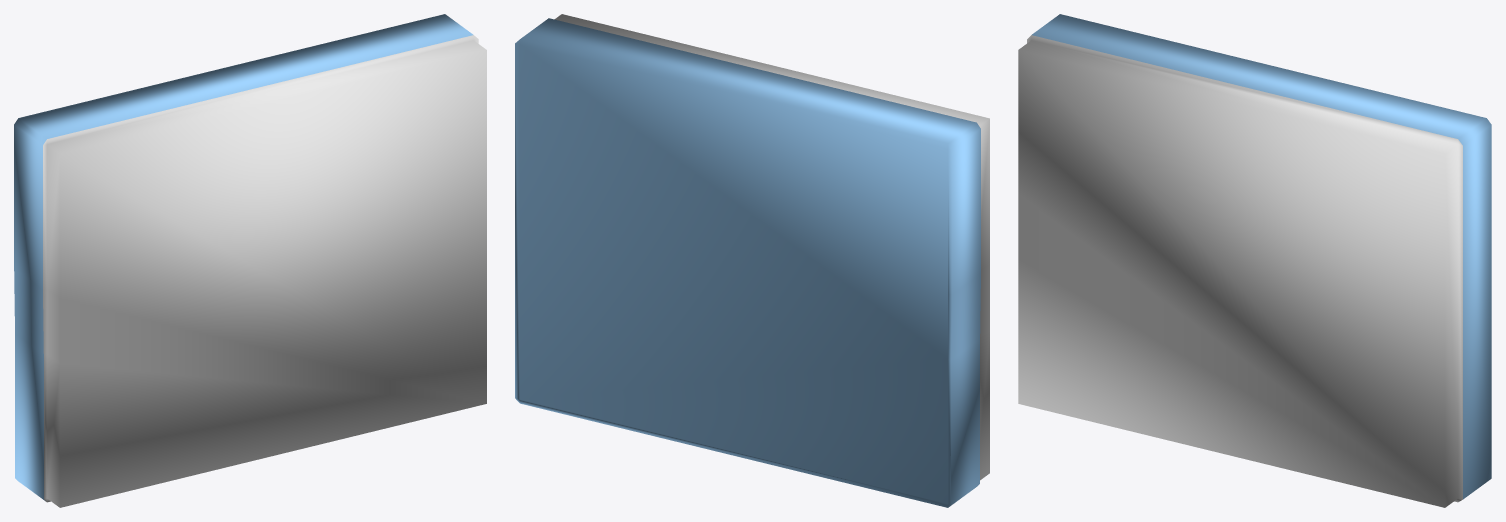
The picture shows the model from 3 angles, left to right: view 1: azimuth 30°, elevation 25°; view 2: azimuth 150°, elevation 25°; view 3: azimuth 330°, elevation 25°; orthographic projection.
Visible parts, largest first — view 1: Cube; view 2: Cube; view 3: Cube.
Part boxes in pixels (x1,y1,x2,y2): Cube: (14,14,486,507); Cube: (515,14,989,507); Cube: (1018,14,1491,507).
Size of the model in its own units: 38.67 by 30.79 by 6.42.
